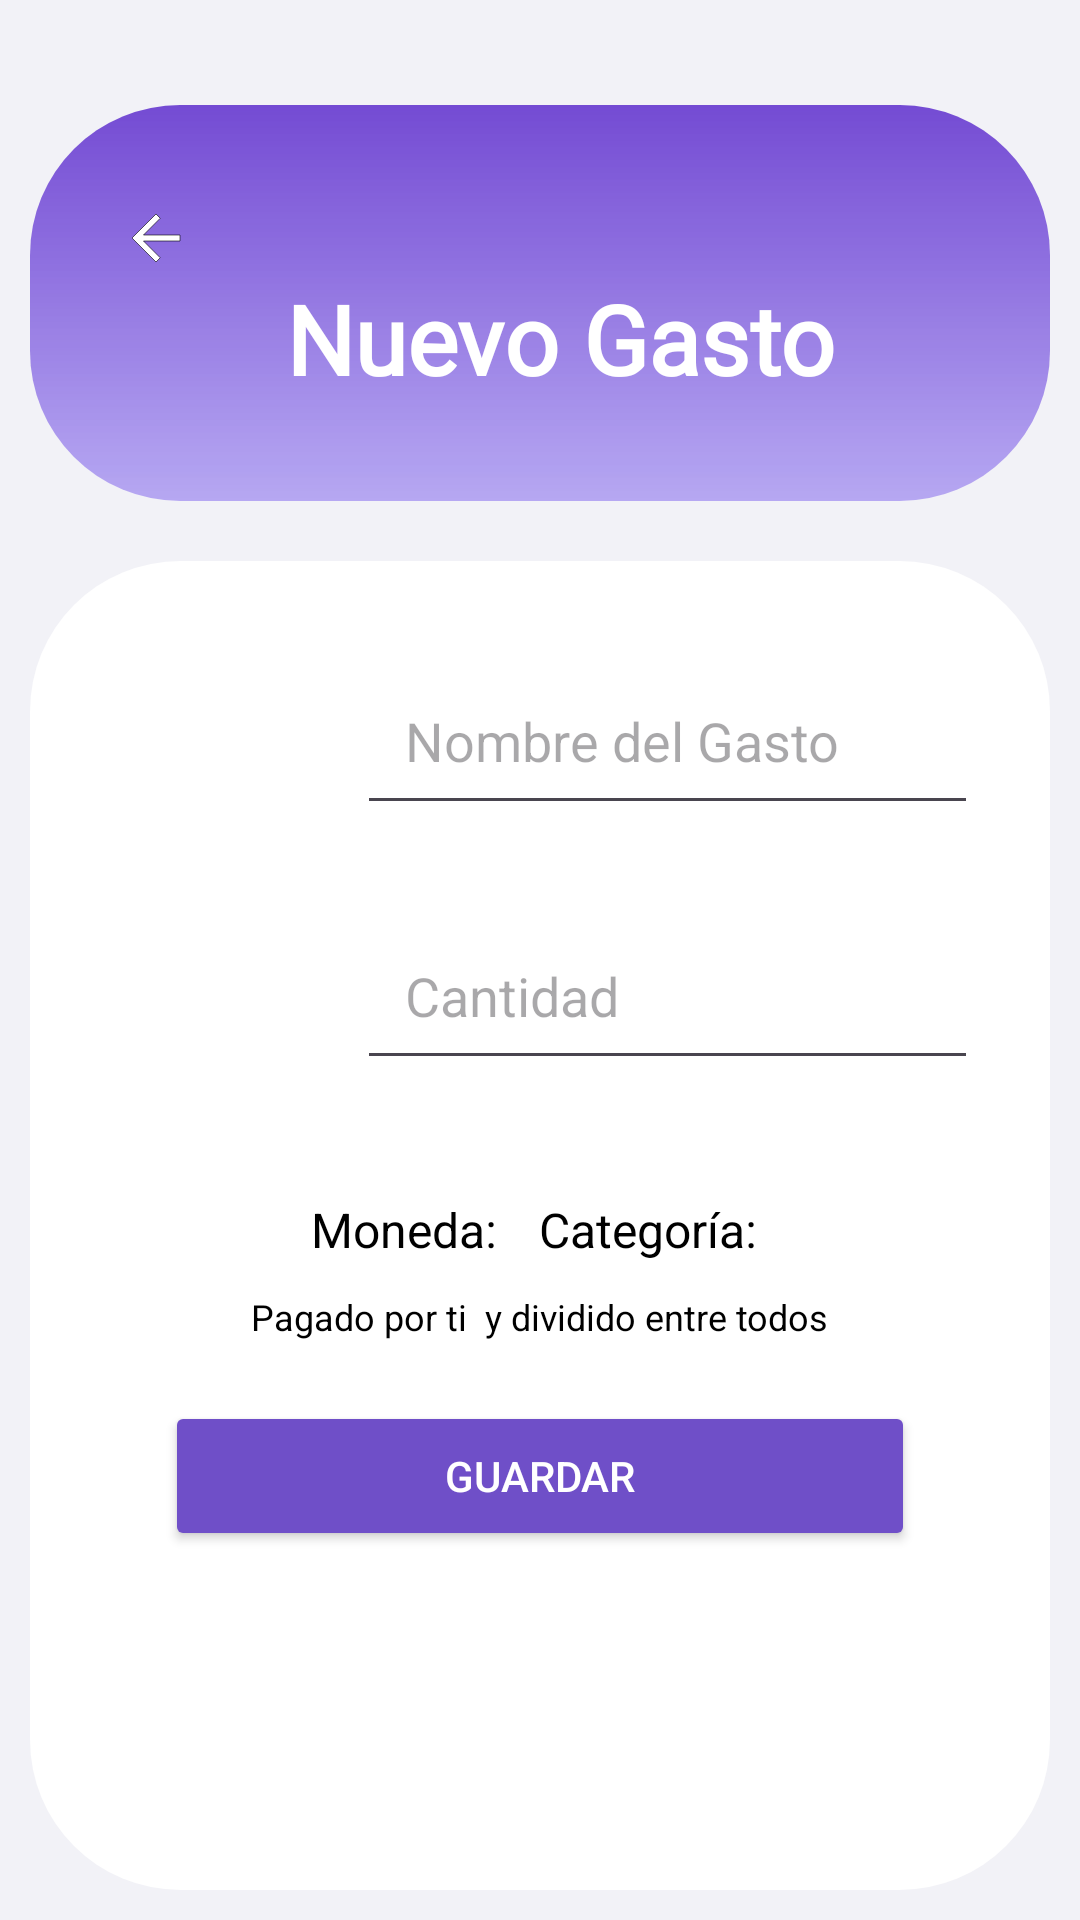

Named icons in this screenshot (1080w x 1920h) and their bounding boxes, (x1, y1, x2, y2):
Cancelar: (132, 214, 181, 262)
